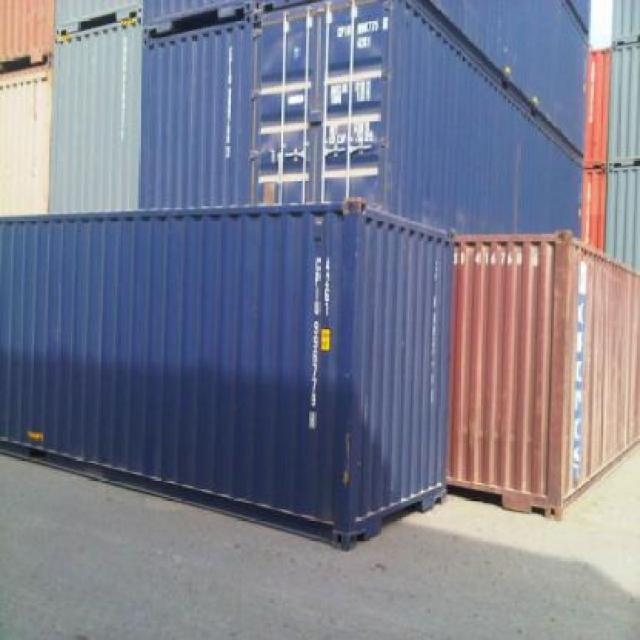ISO: (323, 252, 331, 323), (357, 36, 374, 50)
container_number: (306, 242, 320, 455)
